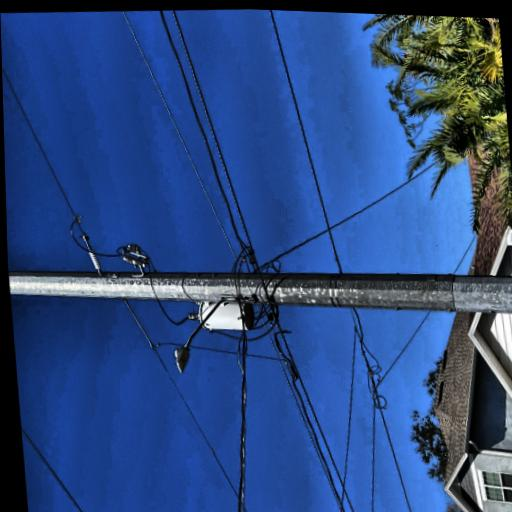pole: (39, 8, 159, 512)
street light: (37, 336, 116, 422)
transformer: (76, 368, 110, 434)
